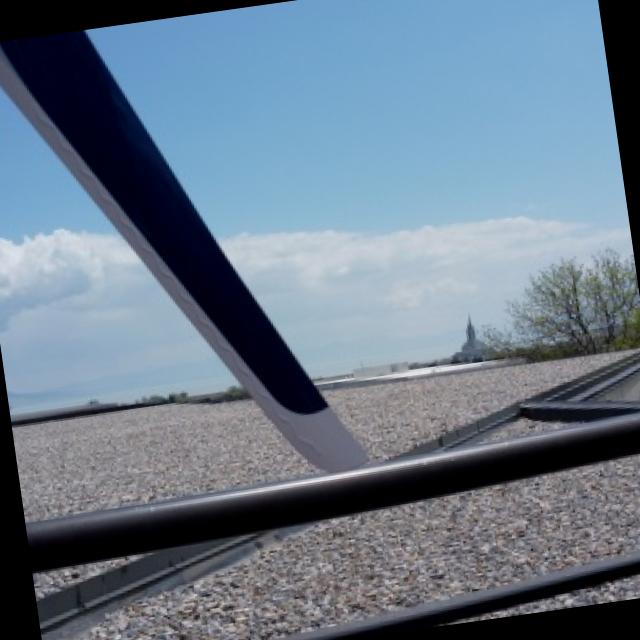healthy: (0, 230, 225, 406)
